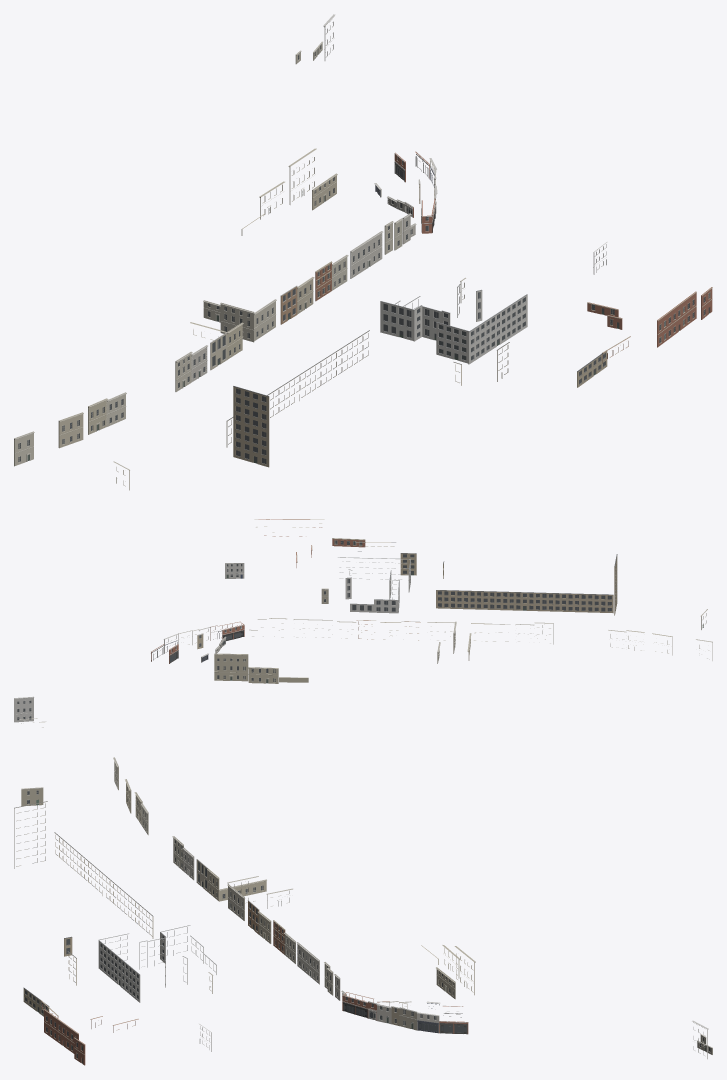
3 views of the same model, one above another, from view 1: azimuth 30°, elevation 25°; view 2: azimuth 150°, elevation 25°; view 3: azimuth 270°, elevation 25° (orthographic). The views are drawn at different scales.
Parts seen in each view (by area): view 1: f:way/8115699, f:way/127718988, f:way/136299683, f:way/134800779, f:way/13221829, f:way/134800774, f:way/134800789; view 2: f:way/127718988, f:way/13221829, f:way/8115699, f:way/137151154; view 3: f:way/8115699, f:way/127718988, f:way/136299683, f:way/134800780, f:way/13221829, f:way/134800779, f:way/134800774, f:way/972902643.
Part boxes in pixels (x1=…): f:way/8115699: x1=380, y1=284, x2=527, y2=364; f:way/127718988: x1=226, y1=330, x2=607, y2=467; f:way/136299683: x1=587, y1=287, x2=712, y2=347; f:way/134800779: x1=203, y1=299, x2=276, y2=342; f:way/13221829: x1=241, y1=148, x2=337, y2=235; f:way/134800774: x1=350, y1=231, x2=382, y2=278; f:way/134800789: x1=58, y1=412, x2=83, y2=448; f:way/127718988: x1=355, y1=542, x2=617, y2=615; f:way/13221829: x1=214, y1=653, x2=308, y2=683; f:way/8115699: x1=338, y1=557, x2=410, y2=613; f:way/137151154: x1=14, y1=696, x2=33, y2=722; f:way/8115699: x1=98, y1=925, x2=216, y2=1002; f:way/127718988: x1=14, y1=801, x2=153, y2=1016; f:way/136299683: x1=44, y1=1009, x2=138, y2=1065; f:way/134800780: x1=207, y1=868, x2=266, y2=901; f:way/13221829: x1=421, y1=945, x2=475, y2=999; f:way/134800779: x1=227, y1=876, x2=292, y2=920; f:way/134800774: x1=296, y1=942, x2=319, y2=984; f:way/972902643: x1=342, y1=992, x2=373, y2=1018.
Bounding box in the file's own units: 248 × 25.13 × 257.
